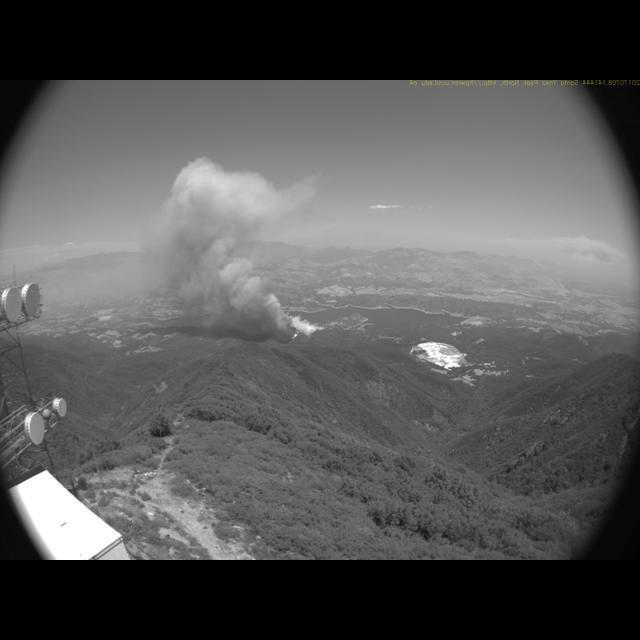Smoke: (129, 149, 329, 345)
